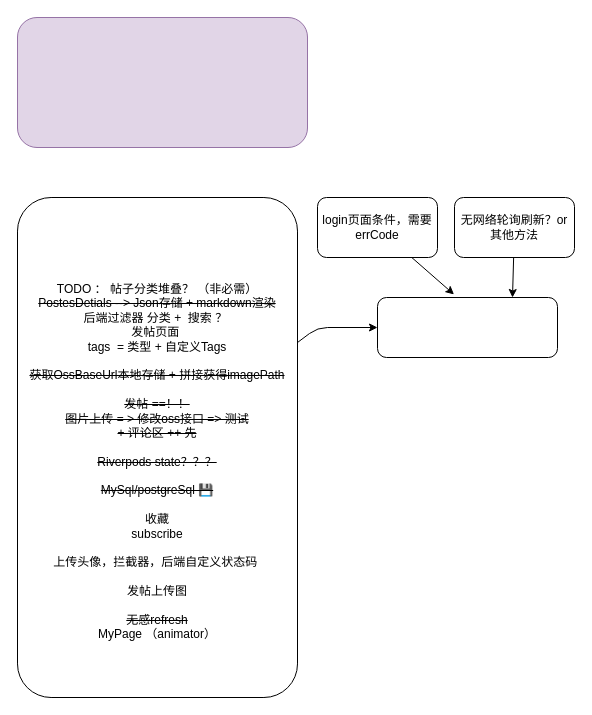
This 592x715 diagram has some shape labels left out. The shapes that lost their labels are listed below. From the top down, each one's box as (x1, y1, x2, y2) in pixels, then its label:
(16, 16, 308, 148): WidgetRat
(376, 296, 558, 358): 注册+ 后端状态码 start@25/6/25
